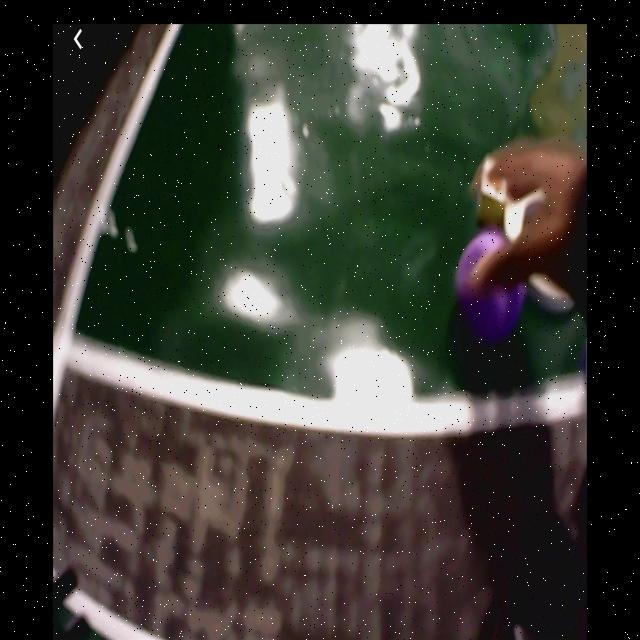ball: (462, 229, 524, 337)
